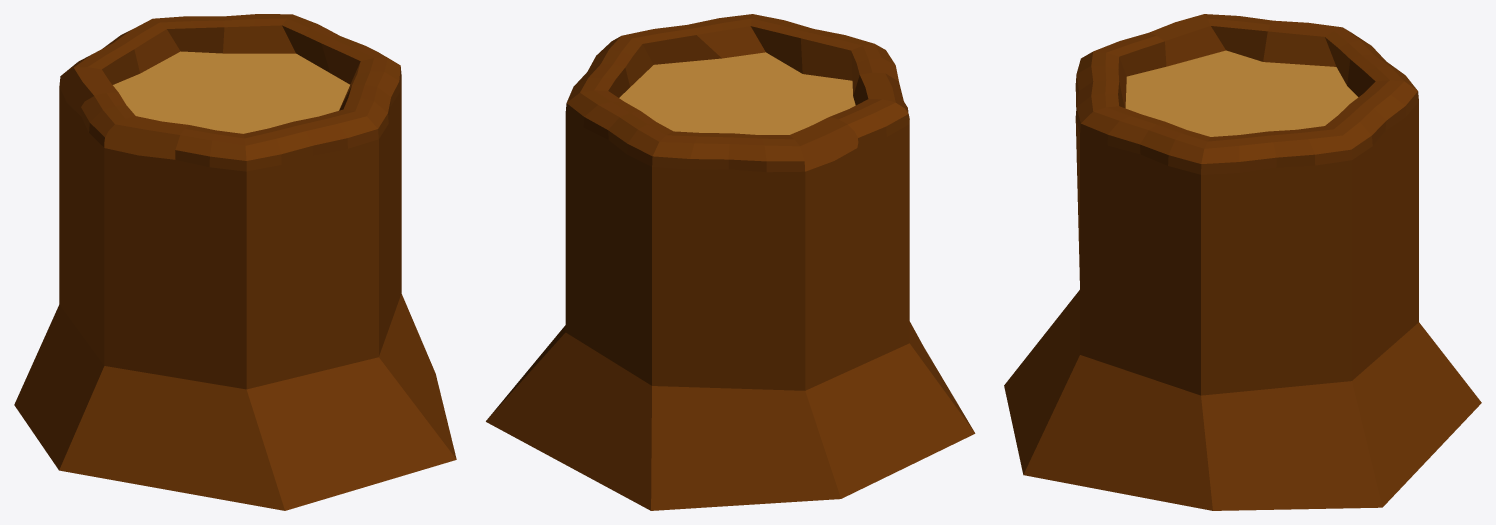
The model's file is Stump.fbx.
3 views of the same model, side by side, from view 1: azimuth 30°, elevation 25°; view 2: azimuth 150°, elevation 25°; view 3: azimuth 270°, elevation 25° (orthographic).
Visible parts, largest first — view 1: Cylinder; view 2: Cylinder; view 3: Cylinder.
Part boxes in pixels (left/top/right/bottom): Cylinder: left=14, top=14, right=456, bottom=510; Cylinder: left=486, top=14, right=975, bottom=510; Cylinder: left=1004, top=14, right=1481, bottom=510.
Size of the model in its own units: 120 by 97.4 by 125.
